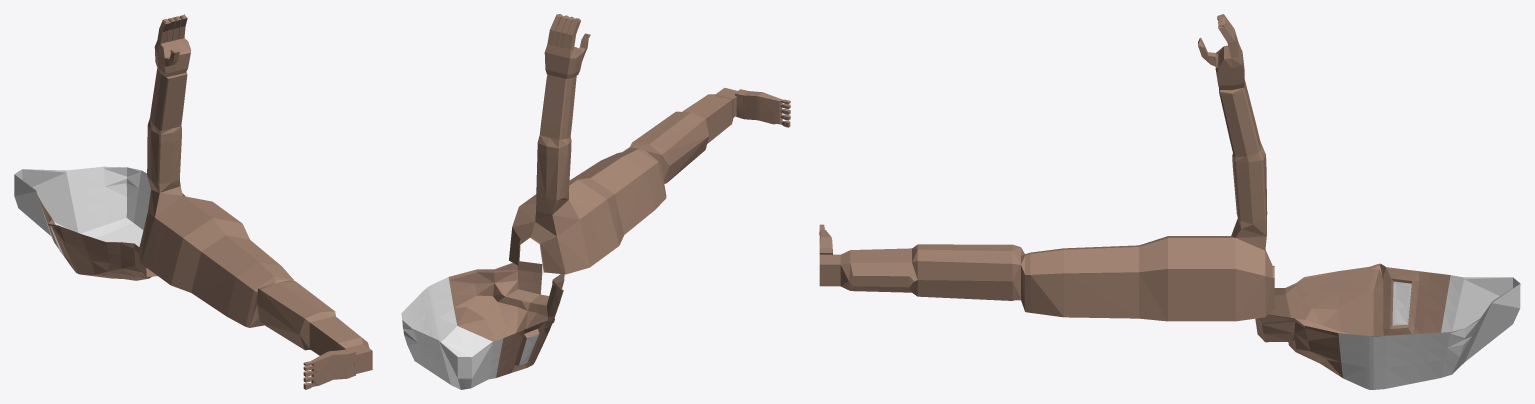
File: human2-2.dae
The picture shows the model from 3 angles, left to right: view 1: azimuth 30°, elevation 25°; view 2: azimuth 150°, elevation 25°; view 3: azimuth 270°, elevation 25°; orthographic projection. The views are drawn at different scales.
Visible parts, largest first — view 1: Cube.001; view 2: Cube.001; view 3: Cube.001.
Part boxes in pixels (x1,y1,x2,y2): Cube.001: (14, 14, 372, 389); Cube.001: (401, 14, 790, 389); Cube.001: (819, 14, 1520, 389).
Bounding box in the file's own units: 3.1 × 12.63 × 6.98.
